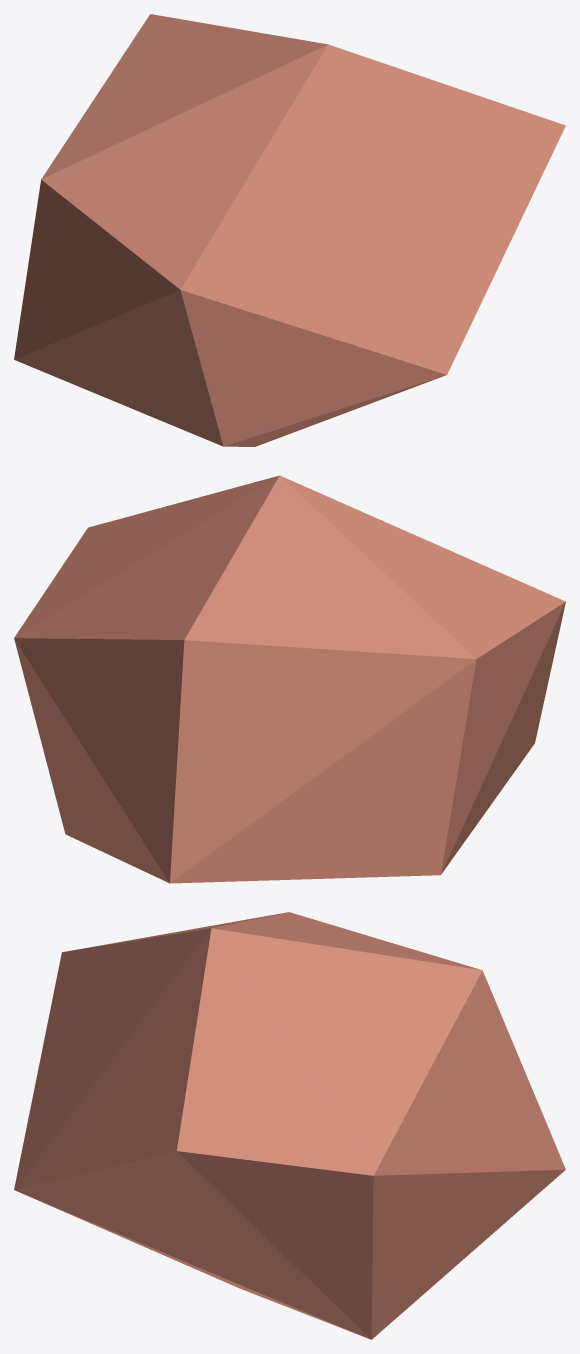
Rendered from stone_007.fbx.
The picture shows the model from 3 angles, top to bottom: view 1: azimuth 30°, elevation 25°; view 2: azimuth 150°, elevation 25°; view 3: azimuth 270°, elevation 25°; orthographic projection. The views are drawn at different scales.
Parts seen in each view (by area): view 1: stone_007; view 2: stone_007; view 3: stone_007.
Part boxes in pixels (x1=…): stone_007: x1=14, y1=14, x2=565, y2=446; stone_007: x1=14, y1=475, x2=565, y2=883; stone_007: x1=14, y1=912, x2=565, y2=1339.
Size of the model in its own units: 43.5 by 45.74 by 35.49.
